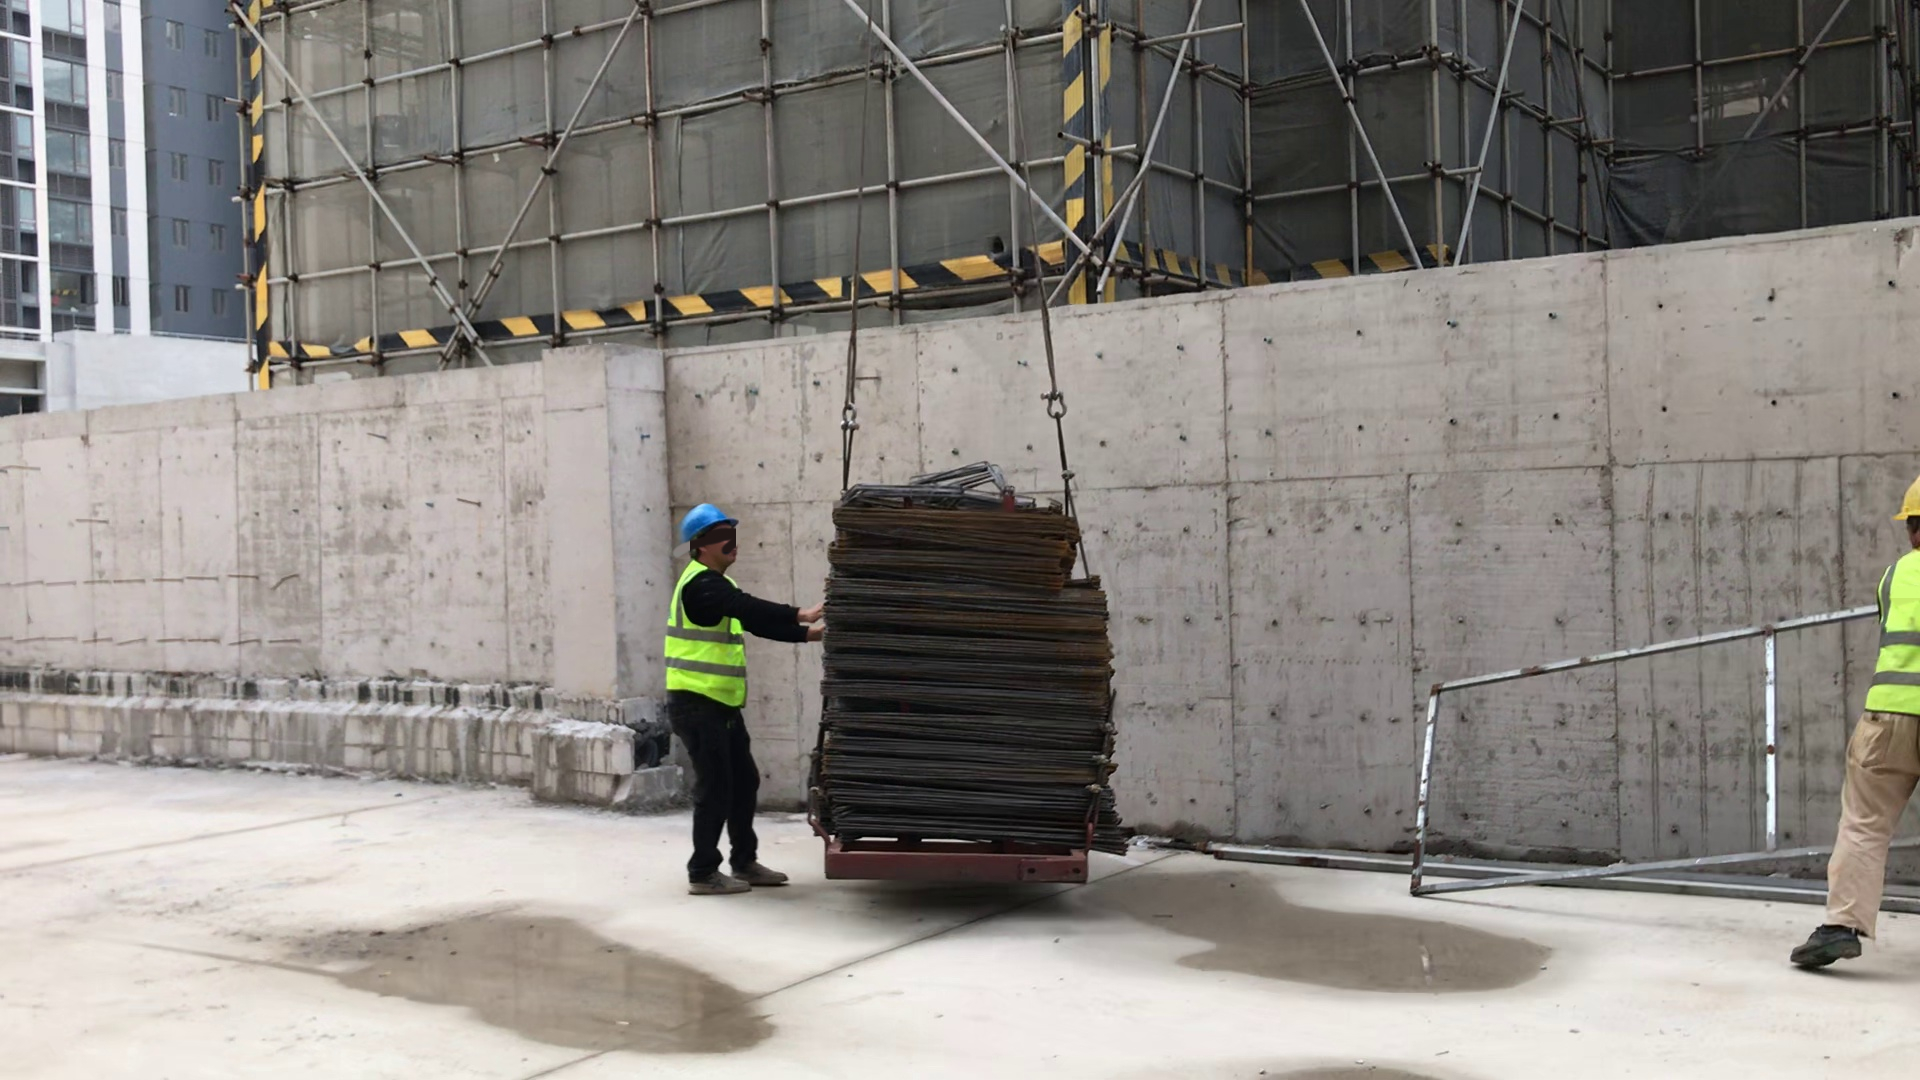helmet: (672, 506, 746, 554), (1891, 473, 1920, 538)
person: (1805, 466, 1920, 977), (657, 505, 795, 905)
vest: (666, 564, 759, 727), (1871, 550, 1920, 698)
